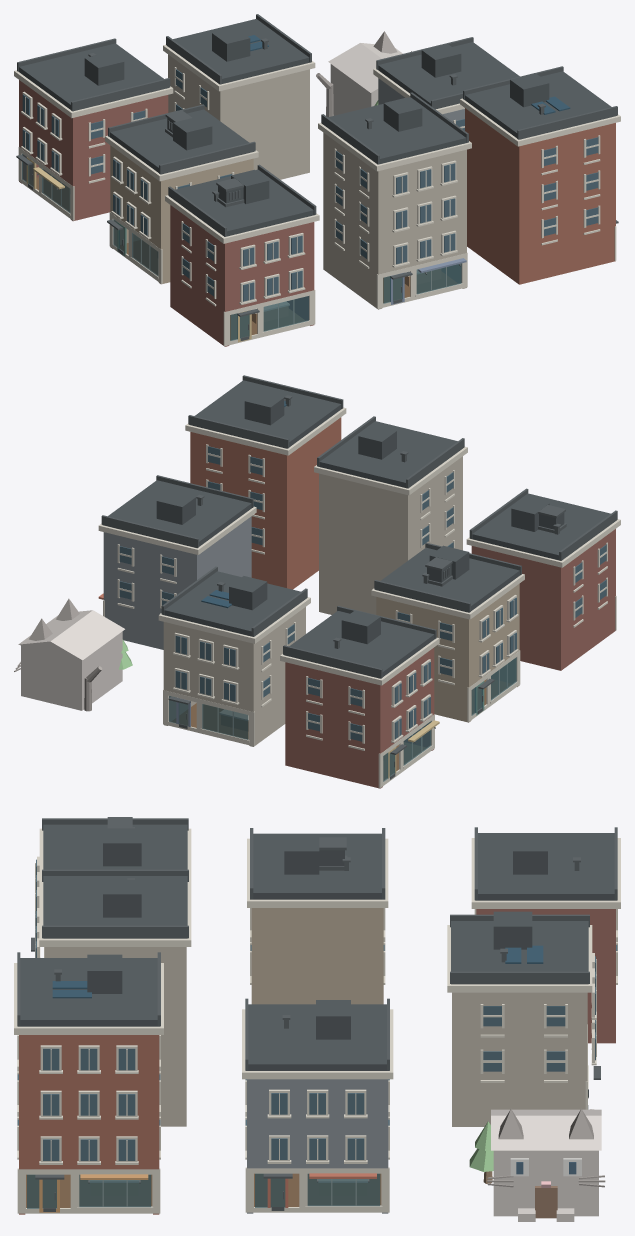
Rendered from downtown-block-m1-m1.glb.
3 views of the same model, one above another, from view 1: azimuth 30°, elevation 25°; view 2: azimuth 150°, elevation 25°; view 3: azimuth 270°, elevation 25° (orthographic). The views are drawn at different scales.
Parts seen in each view (by area): view 1: urban_townhouse_00.003, urban_townhouse_14.003, urban_townhouse_13.003, urban_townhouse_03.002, urban_townhouse_04.002, urban_townhouse_01.002, urban_townhouse_02.002, roofcap.001, body.008; view 2: urban_townhouse_03.002, urban_townhouse_14.003, urban_townhouse_00.003, urban_townhouse_04.002, urban_townhouse_13.003, urban_townhouse_02.002, urban_townhouse_01.002, body.008, roofcap.001; view 3: urban_townhouse_00.003, urban_townhouse_02.002, urban_townhouse_04.002, urban_townhouse_01.002, urban_townhouse_14.003, urban_townhouse_03.002, urban_townhouse_13.003, body.008, roofcap.001, mouthdoor.001.
Part boxes in pixels (box(x1,y1,x2,y2)): urban_townhouse_00.003: box(460, 66, 620, 284); urban_townhouse_14.003: box(318, 92, 471, 309); urban_townhouse_13.003: box(165, 164, 319, 346); urban_townhouse_03.002: box(14, 38, 173, 221); urban_townhouse_04.002: box(163, 14, 315, 179); urban_townhouse_01.002: box(105, 104, 258, 284); urban_townhouse_02.002: box(373, 37, 519, 130); roofcap.001: box(328, 43, 402, 92); body.008: box(330, 64, 378, 115); urban_townhouse_03.002: box(280, 606, 439, 788); urban_townhouse_14.003: box(314, 416, 467, 614); urban_townhouse_00.003: box(185, 375, 346, 589); urban_townhouse_04.002: box(158, 566, 310, 746); urban_townhouse_13.003: box(466, 488, 620, 670); urban_townhouse_02.002: box(98, 475, 256, 649); urban_townhouse_01.002: box(371, 542, 524, 722); body.008: box(21, 631, 122, 710); roofcap.001: box(18, 610, 124, 660); urban_townhouse_00.003: box(14, 952, 163, 1214); urban_townhouse_02.002: box(242, 998, 393, 1213); urban_townhouse_04.002: box(447, 911, 600, 1126); urban_townhouse_01.002: box(247, 828, 388, 1004); urban_townhouse_14.003: box(35, 869, 191, 1126); urban_townhouse_03.002: box(471, 827, 620, 1043); urban_townhouse_13.003: box(31, 817, 191, 957); body.008: box(493, 1150, 598, 1216); roofcap.001: box(491, 1109, 601, 1150); mouthdoor.001: box(535, 1186, 557, 1218).
Size of the model in its own units: 33.49 by 13.81 by 34.52.
